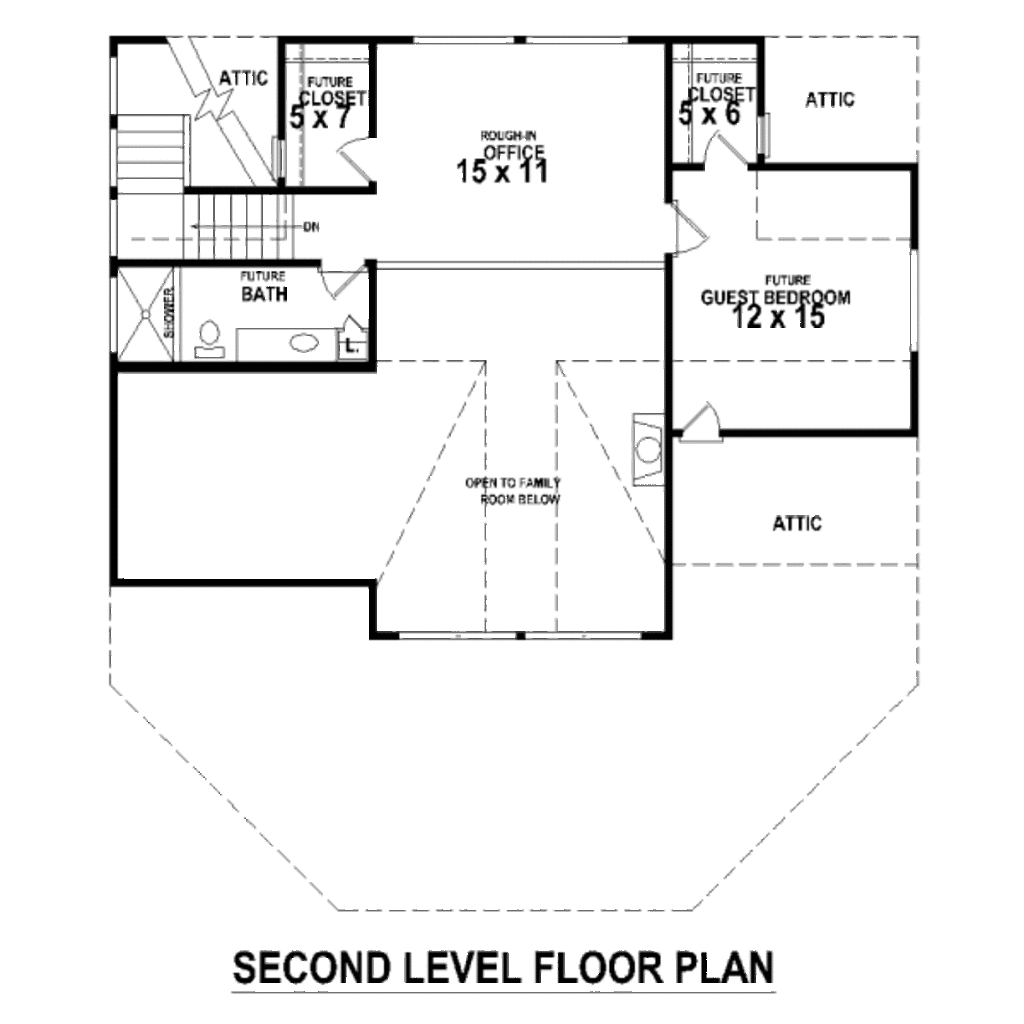door: (336, 127, 379, 187), (680, 401, 733, 447), (696, 122, 746, 168), (312, 252, 360, 298), (665, 201, 706, 254)
large_sink: (188, 316, 230, 358)
small_sink: (247, 322, 339, 363)
stairs: (114, 105, 298, 263)
window: (901, 243, 931, 351), (523, 625, 649, 647), (395, 625, 522, 646), (414, 30, 520, 46), (531, 32, 631, 47)
